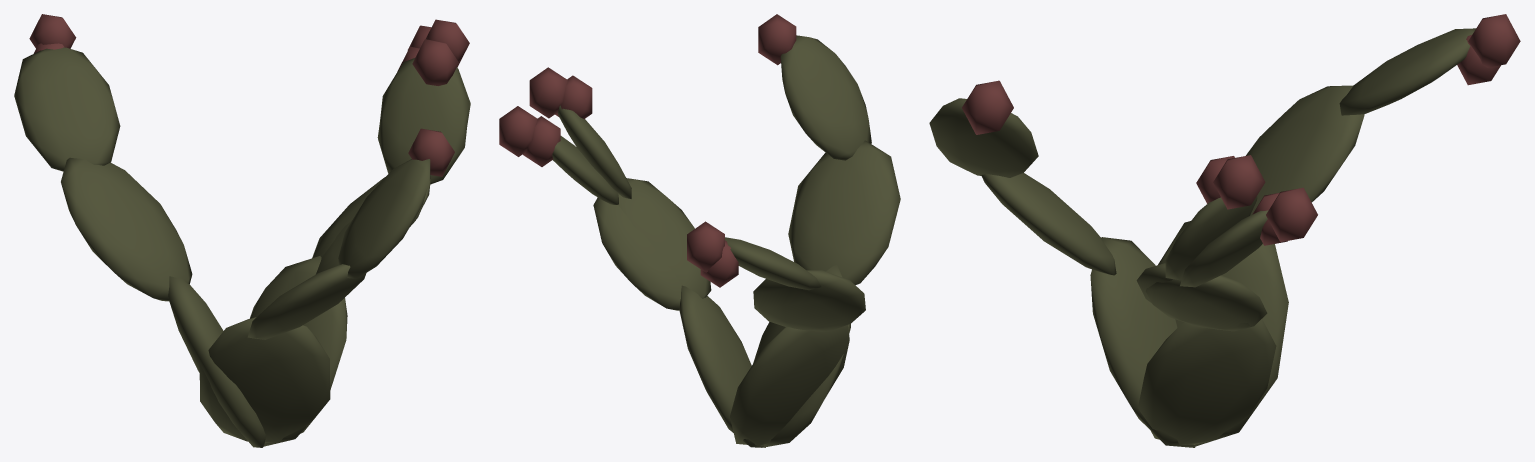
The model's file is prickly_pear_1_burnt2.glb.
The picture shows the model from 3 angles, left to right: view 1: azimuth 30°, elevation 25°; view 2: azimuth 150°, elevation 25°; view 3: azimuth 270°, elevation 25°; orthographic projection. The views are drawn at different scales.
Visible parts, largest first — view 1: prickly_pear_1_burnt2; view 2: prickly_pear_1_burnt2; view 3: prickly_pear_1_burnt2.
Part boxes in pixels (x1=…): prickly_pear_1_burnt2: x1=14, y1=14, x2=470, y2=447; prickly_pear_1_burnt2: x1=499, y1=14, x2=900, y2=447; prickly_pear_1_burnt2: x1=929, y1=14, x2=1520, y2=447.
Bounding box in the file's own units: 0.9268 × 0.8543 × 1.13.
